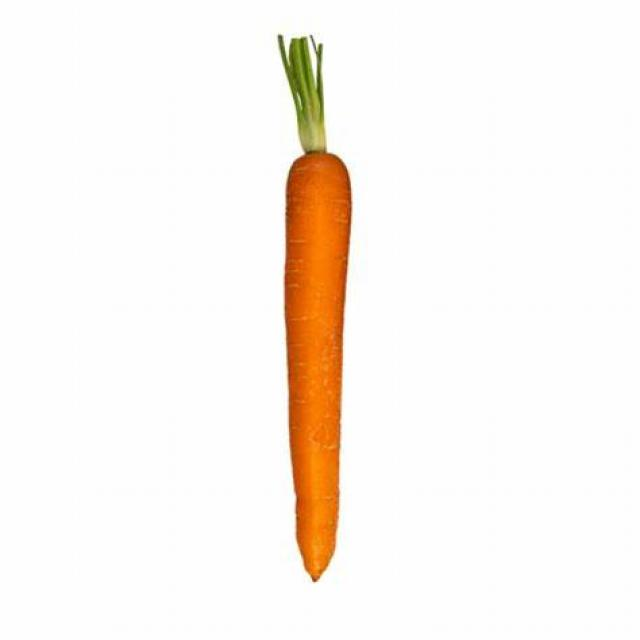Carrot: (275, 37, 351, 584)
